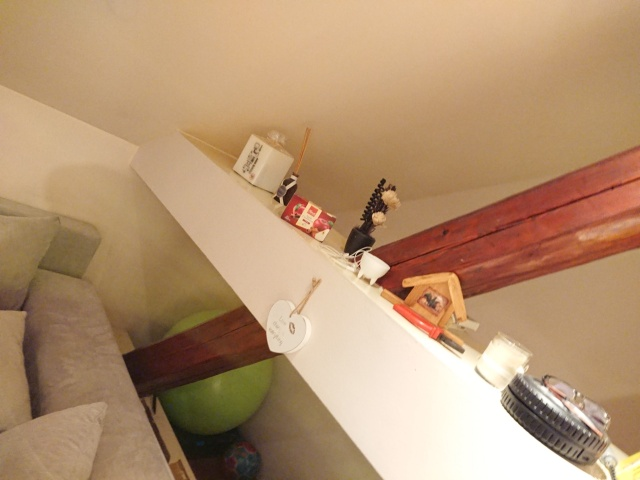Franck Apple Cinnamon Tea 60g: (277, 190, 339, 245)
